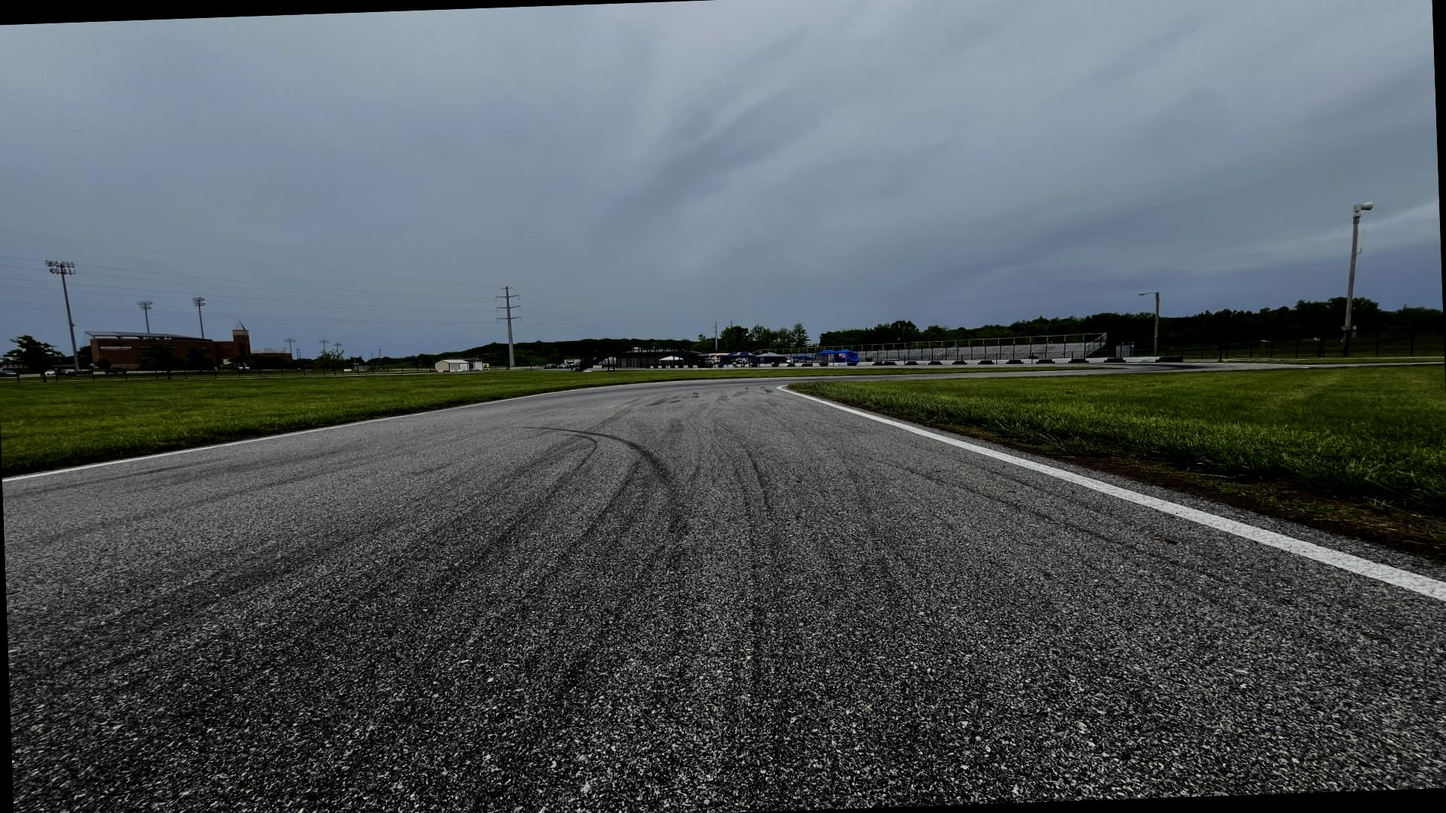white-line: (1030, 457, 1445, 602), (817, 389, 1038, 473), (2, 431, 294, 487), (290, 396, 524, 437), (518, 379, 671, 400), (668, 376, 772, 383), (777, 384, 816, 401), (1014, 368, 1124, 374), (905, 371, 1014, 376), (836, 374, 906, 378), (768, 376, 837, 380)
